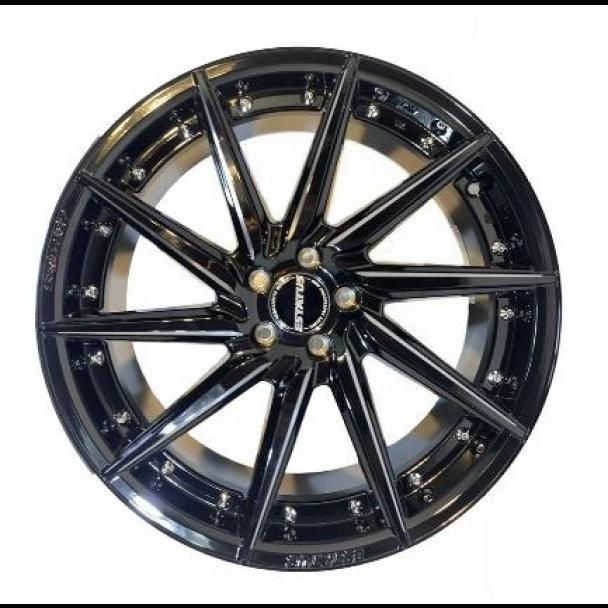hole: (242, 263, 272, 294), (304, 329, 334, 360), (248, 319, 278, 349), (331, 283, 360, 312), (293, 242, 321, 270)
